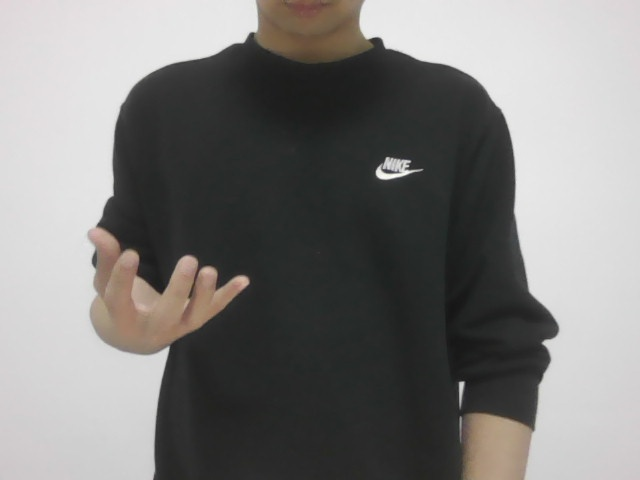flavor: (73, 229, 257, 351)
